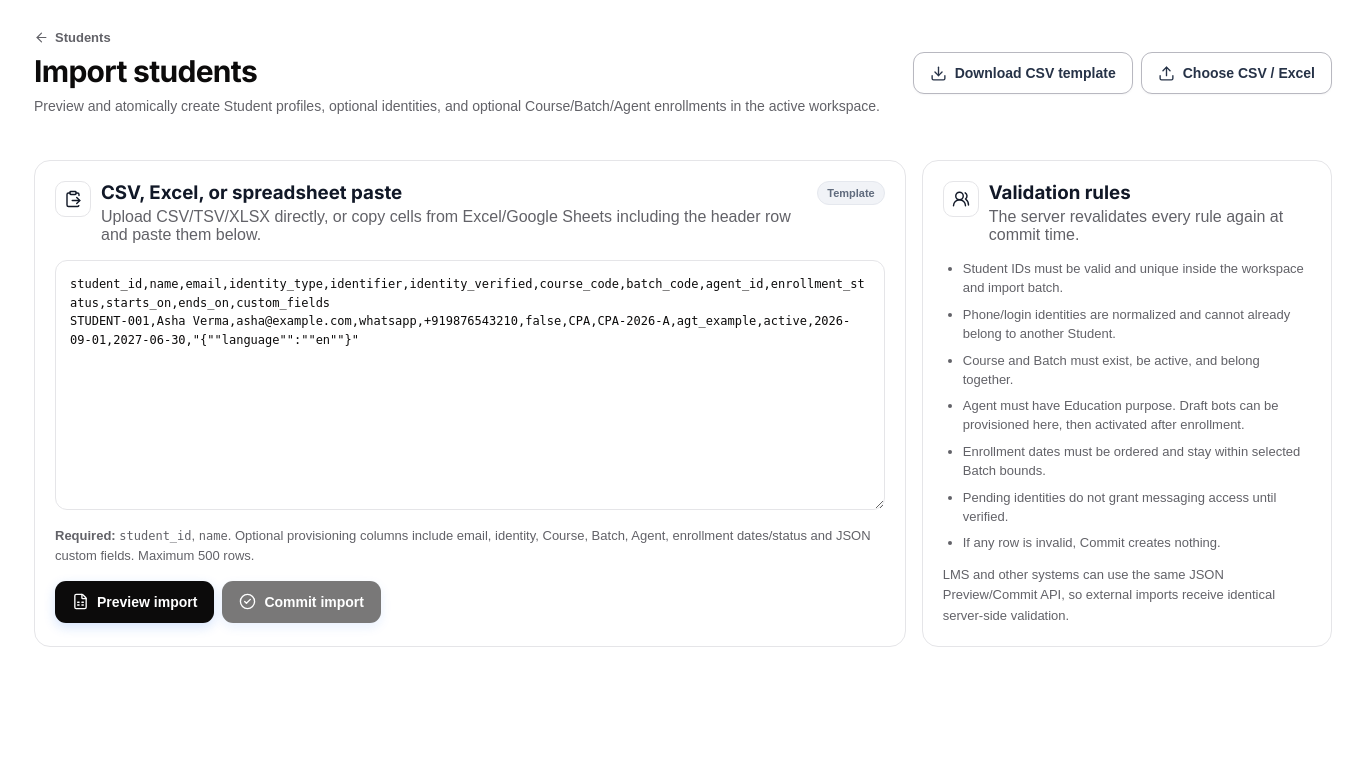
it: EducationStudentImportPage › commits exactly the rows from the latest valid preview
Click the button "Preview import" at (135, 602), box [55,581,214,623]
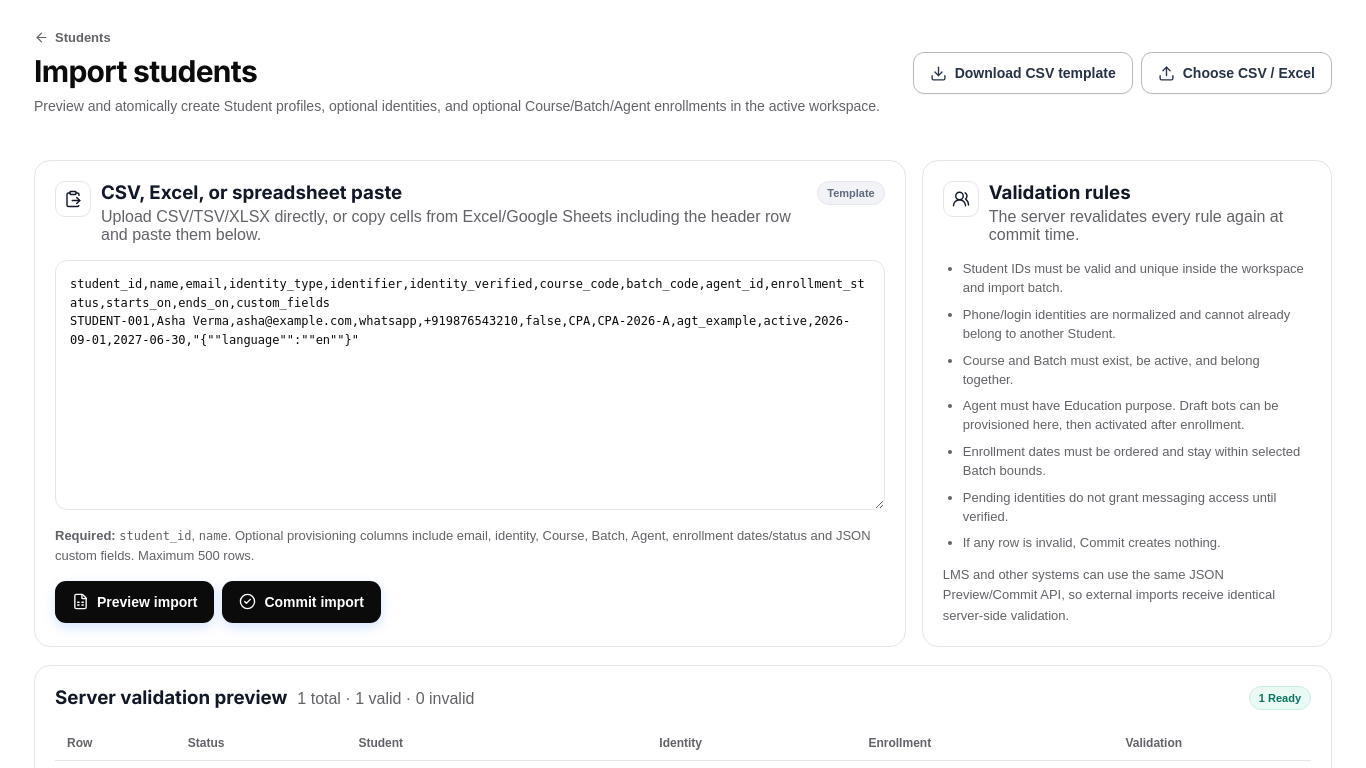
expect the heading "Server validation preview" is shown: met, box [55,686,287,709]
Click the button "Commit import" at (302, 602), box [222,581,381,623]
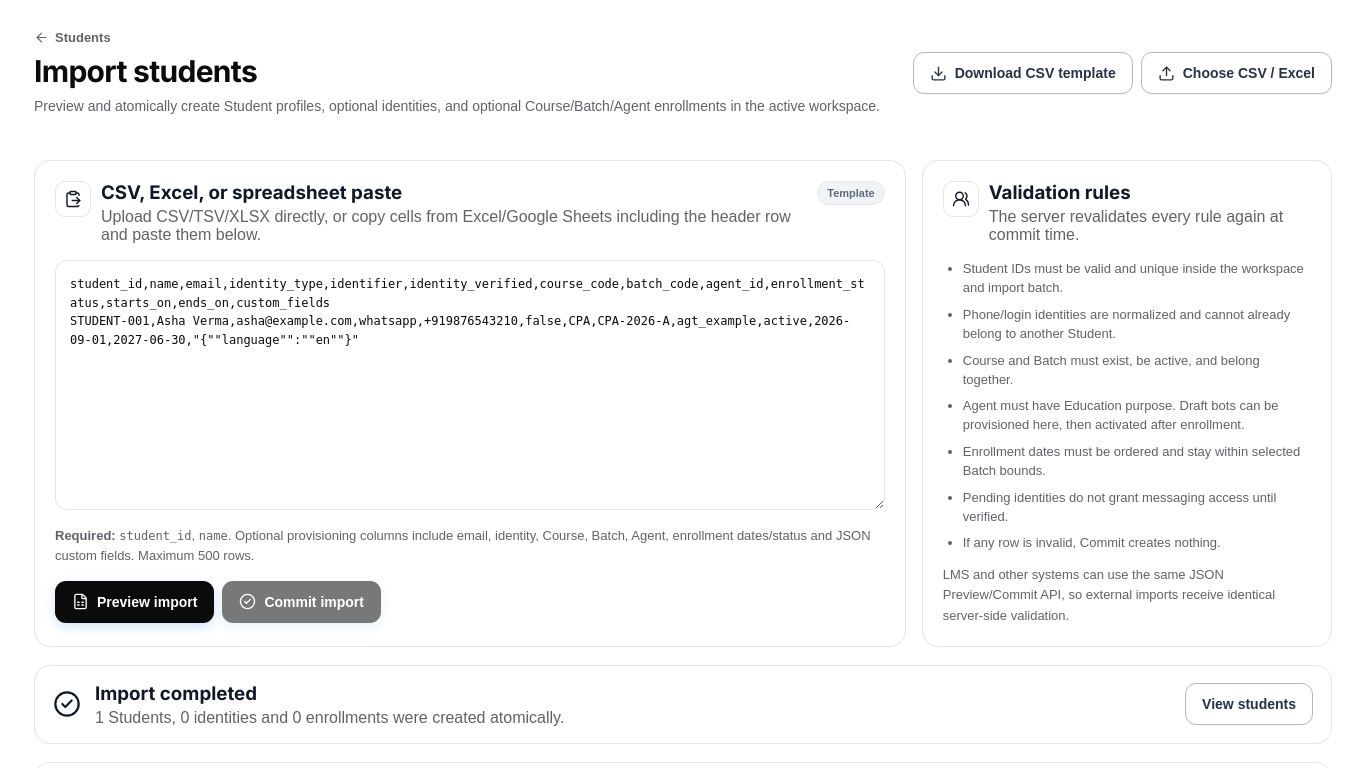
expect the heading "Import completed" is shown: met, box [95,682,257,705]
expect the text "1 Students, 0 identities and 0 enrollments" is shown: met, box [95,709,564,726]
